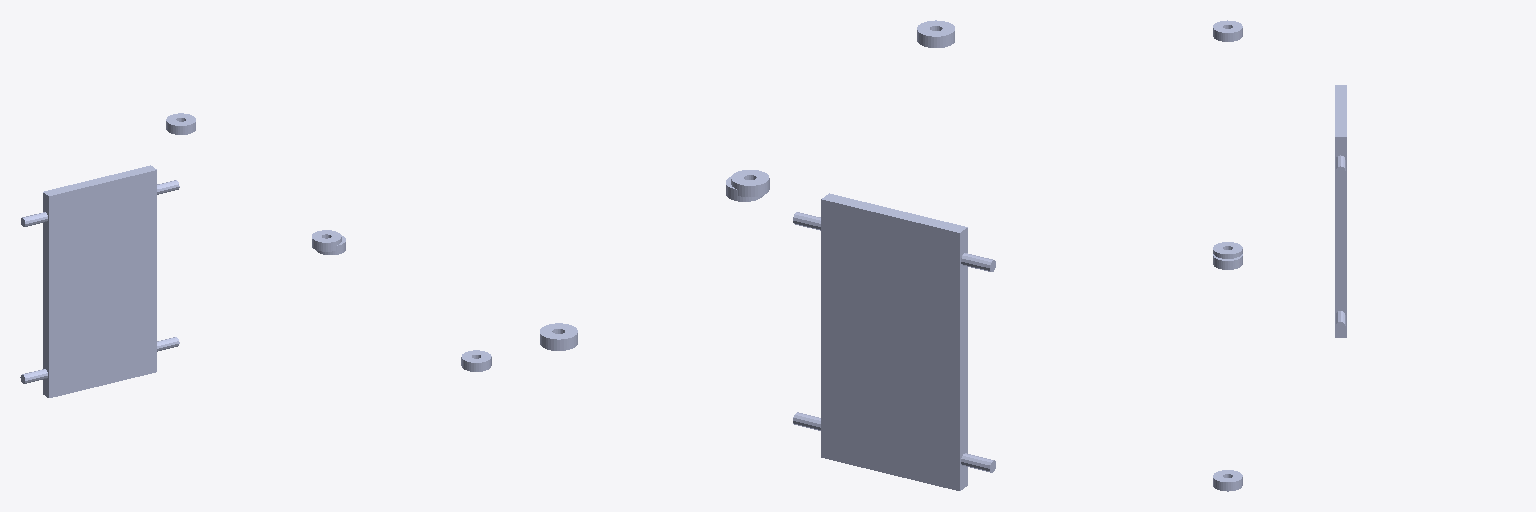
The robot description file, URDF, robot "ros_test_assembly":
<?xml version="1.0" encoding="utf-8"?>
<!-- This URDF was automatically created by SolidWorks to URDF Exporter! Originally created by [author] ([email redacted]) 
     Commit Version: 1.6.0-1-g15f4949  Build Version: 1.6.7594.29634
     For more information, please see http://wiki.ros.org/sw_urdf_exporter -->
<robot
  name="ros_test_assembly">
  <link
    name="base_link">
    <inertial>
      <origin
        xyz="-0.25 0.0249831852972346 -0.445"
        rpy="0 0 0" />
      <mass
        value="22.7777875658031" />
      <inertia
        ixx="1.53624657736055"
        ixy="5.64314745403623E-19"
        ixz="7.11507675693612E-17"
        iyy="2.04388054287898"
        iyz="7.24588315938943E-18"
        izz="0.517010899353609" />
    </inertial>
    <visual>
      <origin
        xyz="0 0 0"
        rpy="0 0 0" />
      <geometry>
        <mesh
          filename="package://ros_test_assembly/meshes/base_link.STL" />
      </geometry>
      <material
        name="">
        <color
          rgba="0.792156862745098 0.819607843137255 0.933333333333333 1" />
      </material>
    </visual>
    <collision>
      <origin
        xyz="0 0 0"
        rpy="0 0 0" />
      <geometry>
        <mesh
          filename="package://ros_test_assembly/meshes/base_link.STL" />
      </geometry>
    </collision>
  </link>
  <link
    name="FR_wheel">
    <inertial>
      <origin
        xyz="-5.55111512312578E-17 0 0"
        rpy="0 0 0" />
      <mass
        value="0.402123859659494" />
      <inertia
        ixx="0.00045574037428076"
        ixy="-7.67877008722872E-38"
        ixz="-1.17549435082229E-36"
        iyy="0.00045574037428076"
        iyz="-1.16563729924132E-36"
        izz="0.000804247719318988" />
    </inertial>
    <visual>
      <origin
        xyz="0 0 0"
        rpy="0 0 0" />
      <geometry>
        <mesh
          filename="package://ros_test_assembly/meshes/FR_wheel.STL" />
      </geometry>
      <material
        name="">
        <color
          rgba="0.792156862745098 0.819607843137255 0.933333333333333 1" />
      </material>
    </visual>
    <collision>
      <origin
        xyz="0 0 0"
        rpy="0 0 0" />
      <geometry>
        <mesh
          filename="package://ros_test_assembly/meshes/FR_wheel.STL" />
      </geometry>
    </collision>
  </link>
  <joint
    name="FR_wheel_contd"
    type="continuous">
    <origin
      xyz="-0.585 0.024274 -0.1"
      rpy="3.1416 -1.5708 0" />
    <parent
      link="base_link" />
    <child
      link="FR_wheel" />
    <axis
      xyz="0 0 1" />
    <limit
      upper="1000"
      effort="0"
      velocity="0" />
  </joint>
  <link
    name="FL_wheel">
    <inertial>
      <origin
        xyz="0 0 0"
        rpy="0 0 0" />
      <mass
        value="0.402123859659493" />
      <inertia
        ixx="0.000455740374280759"
        ixy="-7.67877008722871E-38"
        ixz="9.25180260739775E-37"
        iyy="0.000455740374280759"
        iyz="-1.16563729924132E-36"
        izz="0.000804247719318987" />
    </inertial>
    <visual>
      <origin
        xyz="0 0 0"
        rpy="0 0 0" />
      <geometry>
        <mesh
          filename="package://ros_test_assembly/meshes/FL_wheel.STL" />
      </geometry>
      <material
        name="">
        <color
          rgba="0.792156862745098 0.819607843137255 0.933333333333333 1" />
      </material>
    </visual>
    <collision>
      <origin
        xyz="0 0 0"
        rpy="0 0 0" />
      <geometry>
        <mesh
          filename="package://ros_test_assembly/meshes/FL_wheel.STL" />
      </geometry>
    </collision>
  </link>
  <joint
    name="FL_wheel_cont"
    type="continuous">
    <origin
      xyz="0.085 0.024274 -0.1"
      rpy="3.1416 -1.5708 0" />
    <parent
      link="base_link" />
    <child
      link="FL_wheel" />
    <axis
      xyz="0 0 1" />
    <limit
      upper="1000"
      effort="0"
      velocity="0" />
  </joint>
  <link
    name="RR_wheel">
    <inertial>
      <origin
        xyz="0 0 0"
        rpy="0 0 0" />
      <mass
        value="0.402123859659494" />
      <inertia
        ixx="0.00045574037428076"
        ixy="-7.67877008722872E-38"
        ixz="-1.17549435082229E-36"
        iyy="0.00045574037428076"
        iyz="-1.16563729924132E-36"
        izz="0.000804247719318988" />
    </inertial>
    <visual>
      <origin
        xyz="0 0 0"
        rpy="0 0 0" />
      <geometry>
        <mesh
          filename="package://ros_test_assembly/meshes/RR_wheel.STL" />
      </geometry>
      <material
        name="">
        <color
          rgba="0.792156862745098 0.819607843137255 0.933333333333333 1" />
      </material>
    </visual>
    <collision>
      <origin
        xyz="0 0 0"
        rpy="0 0 0" />
      <geometry>
        <mesh
          filename="package://ros_test_assembly/meshes/RR_wheel.STL" />
      </geometry>
    </collision>
  </link>
  <joint
    name="RR_wheel_contd"
    type="continuous">
    <origin
      xyz="-0.585 0.024274 -0.79"
      rpy="3.1416 -1.5708 0" />
    <parent
      link="base_link" />
    <child
      link="RR_wheel" />
    <axis
      xyz="0 0 1" />
    <limit
      upper="1000"
      effort="0"
      velocity="0" />
  </joint>
  <link
    name="RL_wheel">
    <inertial>
      <origin
        xyz="0 0 0"
        rpy="0 0 0" />
      <mass
        value="0.402123859659493" />
      <inertia
        ixx="0.000455740374280759"
        ixy="-7.67877008722871E-38"
        ixz="9.25180260739775E-37"
        iyy="0.000455740374280759"
        iyz="-1.16563729924132E-36"
        izz="0.000804247719318987" />
    </inertial>
    <visual>
      <origin
        xyz="0 0 0"
        rpy="0 0 0" />
      <geometry>
        <mesh
          filename="package://ros_test_assembly/meshes/RL_wheel.STL" />
      </geometry>
      <material
        name="">
        <color
          rgba="0.792156862745098 0.819607843137255 0.933333333333333 1" />
      </material>
    </visual>
    <collision>
      <origin
        xyz="0 0 0"
        rpy="0 0 0" />
      <geometry>
        <mesh
          filename="package://ros_test_assembly/meshes/RL_wheel.STL" />
      </geometry>
    </collision>
  </link>
  <joint
    name="RF_wheel_contd"
    type="continuous">
    <origin
      xyz="0.085 0.024274 -0.79"
      rpy="3.1416 -1.5708 0" />
    <parent
      link="base_link" />
    <child
      link="RL_wheel" />
    <axis
      xyz="0 0 1" />
    <limit
      upper="1000"
      effort="0"
      velocity="0" />
  </joint>
</robot>

--- Render facts (derived) ---
The picture shows the robot from 3 angles, left to right: view 1: azimuth 30°, elevation 25°; view 2: azimuth 150°, elevation 25°; view 3: azimuth 270°, elevation 25°; orthographic projection.
Robot: ros_test_assembly — 5 links, 4 joints (4 continuous); root link base_link; default pose: every joint at zero.
Visible links, largest first — view 1: base_link, RL_wheel, FR_wheel, FL_wheel; view 2: base_link, RL_wheel, FR_wheel, FL_wheel; view 3: base_link, RL_wheel, FR_wheel.
Boxes of the visible links, x1,y1,x2,y2 form: base_link: (20, 165, 179, 397); RL_wheel: (461, 350, 491, 371); FR_wheel: (166, 113, 195, 134); FL_wheel: (312, 230, 341, 251); base_link: (793, 193, 995, 490); RL_wheel: (540, 323, 577, 350); FR_wheel: (917, 20, 954, 47); FL_wheel: (731, 170, 769, 196); base_link: (1335, 85, 1346, 337); RL_wheel: (1213, 470, 1242, 491); FR_wheel: (1213, 20, 1242, 41).
Size in the robot's own frame: 1.89 by 0.539 by 1.4 metres.
Meshes: 5 distinct files referenced, 5 mesh visuals loaded (5 binary STL).